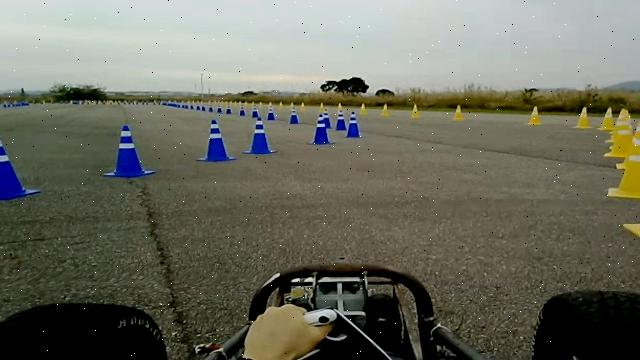blue cone: (102, 124, 155, 178), (0, 132, 40, 200), (196, 118, 236, 162), (242, 117, 276, 154), (306, 114, 335, 145), (344, 111, 362, 138), (319, 108, 332, 128), (335, 110, 346, 130), (288, 107, 300, 124), (266, 102, 276, 121), (250, 106, 260, 118), (238, 106, 246, 116)
yellow cone: (606, 155, 640, 199), (622, 186, 640, 243), (615, 131, 640, 170), (615, 150, 640, 171), (571, 106, 593, 129), (597, 106, 614, 130), (526, 105, 542, 125), (615, 108, 631, 126), (452, 105, 464, 120), (410, 103, 420, 118), (380, 103, 389, 116), (358, 102, 367, 114), (317, 101, 325, 112), (298, 101, 306, 111), (336, 102, 343, 111)
